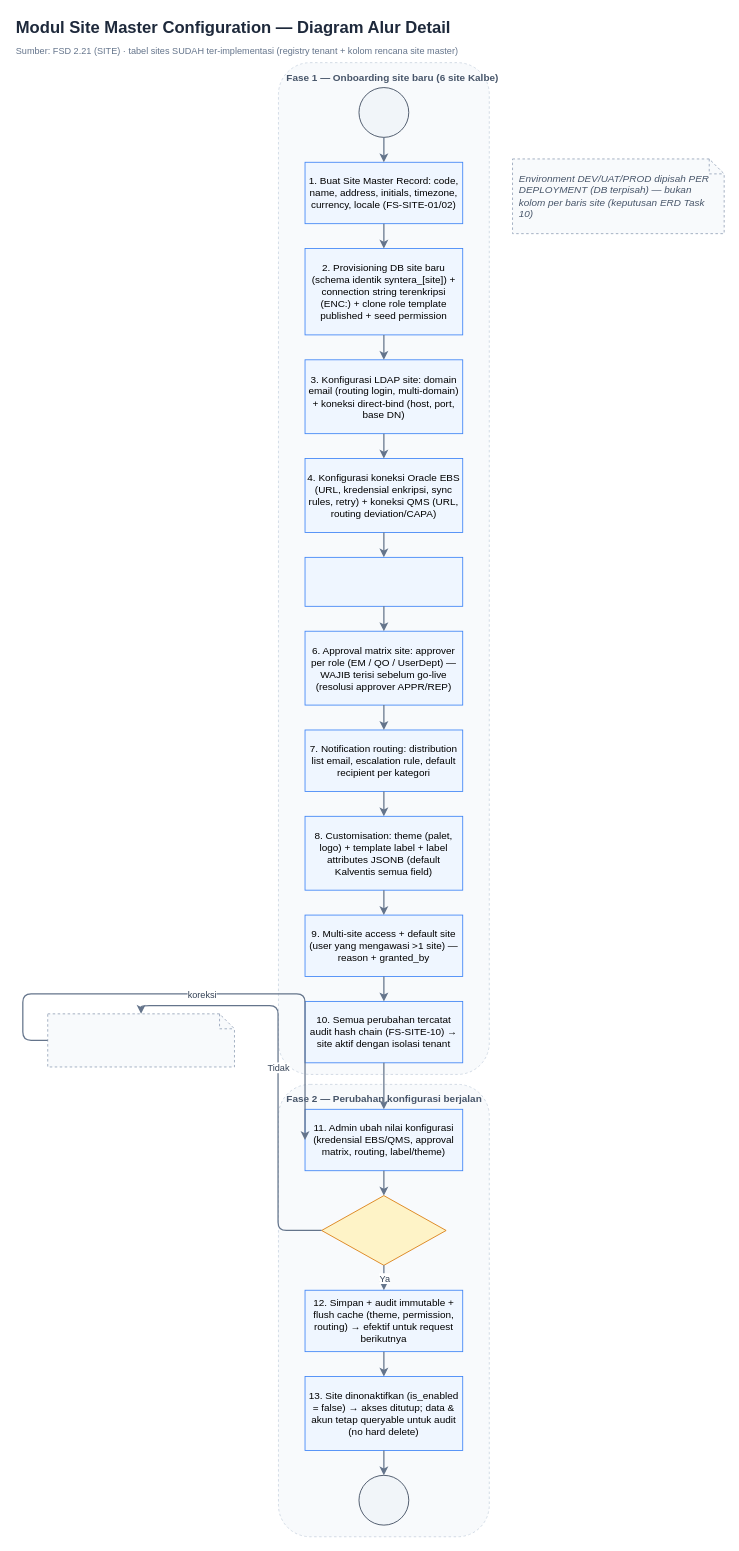
Some shapes in this 739 by 1551 pixel diagram are drawn without their labels. Each missing label, with the centre of its shape:
5. Master organisasi: department, production line, location (dipakai RA & WO): the point at 383,581
Ditolak / ditandai gagal → koreksi (loop revisi sampai valid): the point at 140,1040
Mulai (site baru bergabung): the point at 383,112
Selesai: the point at 383,1499
Test connection valid?: the point at 383,1230
